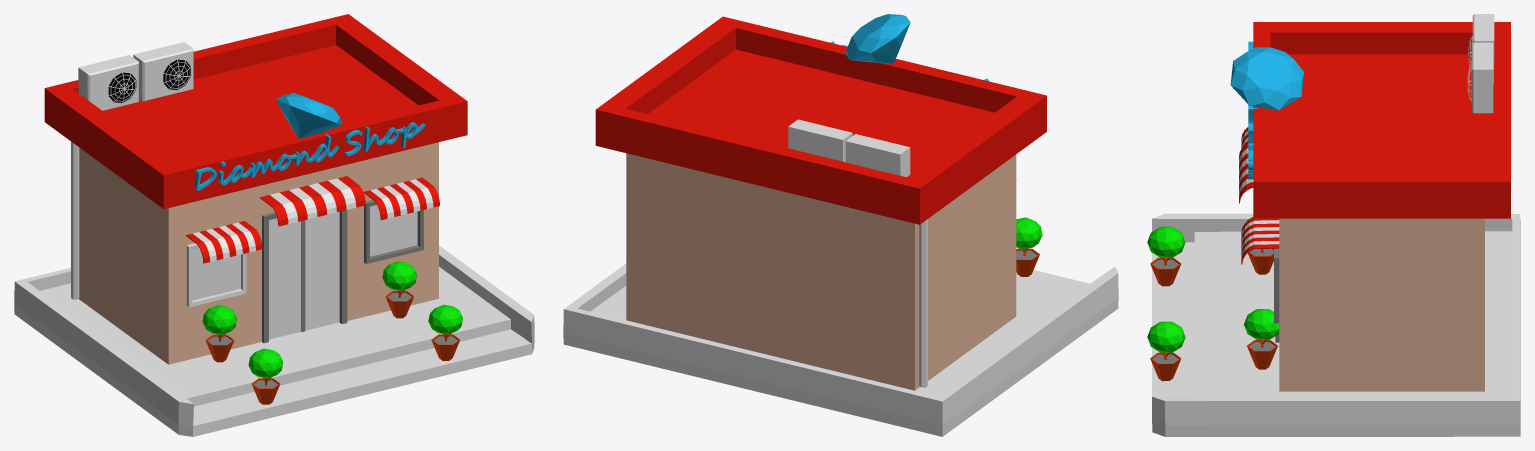
The model's file is SHOP.fbx.
The picture shows the model from 3 angles, left to right: view 1: azimuth 30°, elevation 25°; view 2: azimuth 150°, elevation 25°; view 3: azimuth 270°, elevation 25°; orthographic projection. The views are drawn at different scales.
Visible parts, largest first — view 1: Roof, door, Shade, AC, window, plant, Text, pot, Diamond, pipe; view 2: Roof, AC, Diamond, pipe, plant, pot; view 3: Roof, Diamond, plant, pot, AC, Shade, Text.
Part boxes in pixels (box(x1,y1,x2,y2)): Roof: box(14, 14, 534, 436); door: box(269, 212, 339, 339); Shade: box(186, 176, 439, 263); AC: box(78, 42, 193, 110); window: box(192, 205, 417, 300); plant: box(202, 261, 462, 378); Text: box(194, 122, 425, 190); pot: box(205, 290, 459, 404); Diamond: box(276, 93, 342, 138); pipe: box(71, 141, 79, 299); Roof: box(563, 16, 1118, 436); AC: box(788, 119, 910, 177); Diamond: box(845, 14, 910, 63); pipe: box(919, 219, 927, 387); plant: box(1016, 217, 1042, 249); pot: box(1016, 248, 1039, 276); Roof: box(1152, 22, 1520, 436); Diamond: box(1230, 47, 1304, 110); plant: box(1147, 217, 1279, 352); pot: box(1150, 248, 1277, 381); AC: box(1467, 14, 1494, 113); Shade: box(1239, 127, 1279, 264); Text: box(1248, 41, 1257, 179).
Bounding box in the file's own units: 432 × 307 × 363.
